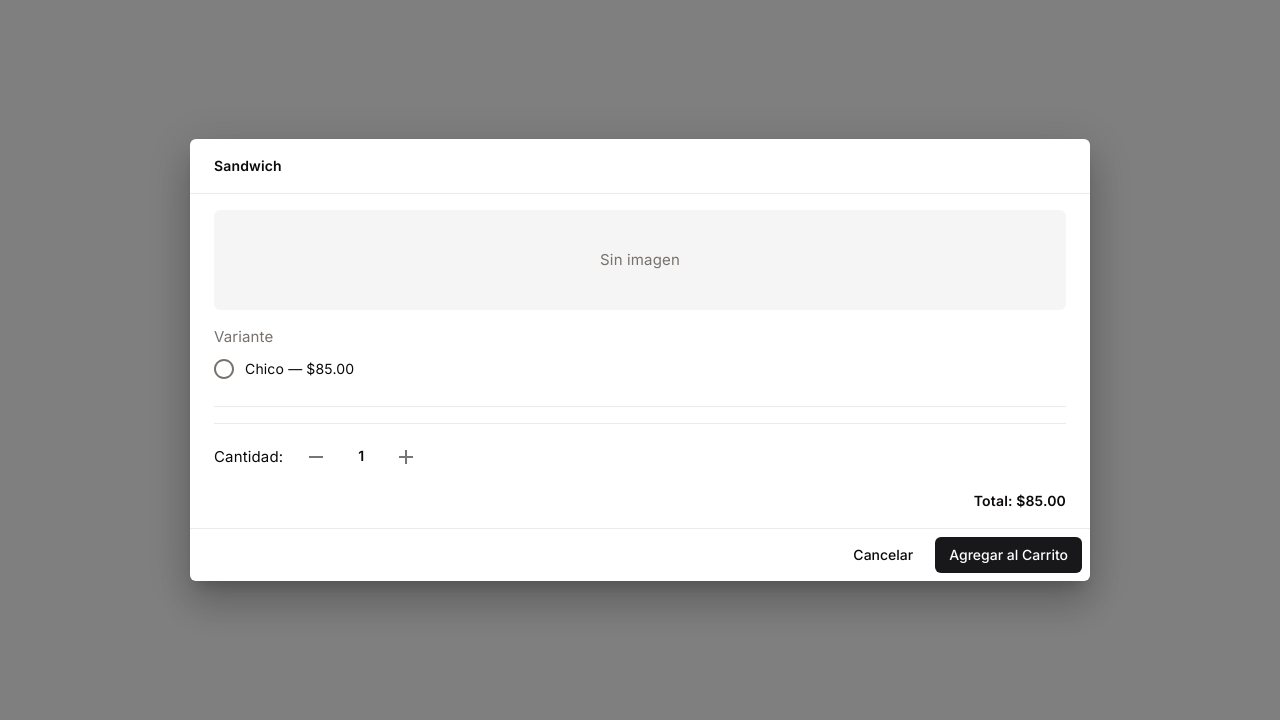
Scenario: ProductDetailModal › shows validation error when VARIANT product but no variant selected
Click the button "Agregar al Carrito" at (1009, 555), box [935, 537, 1082, 573]
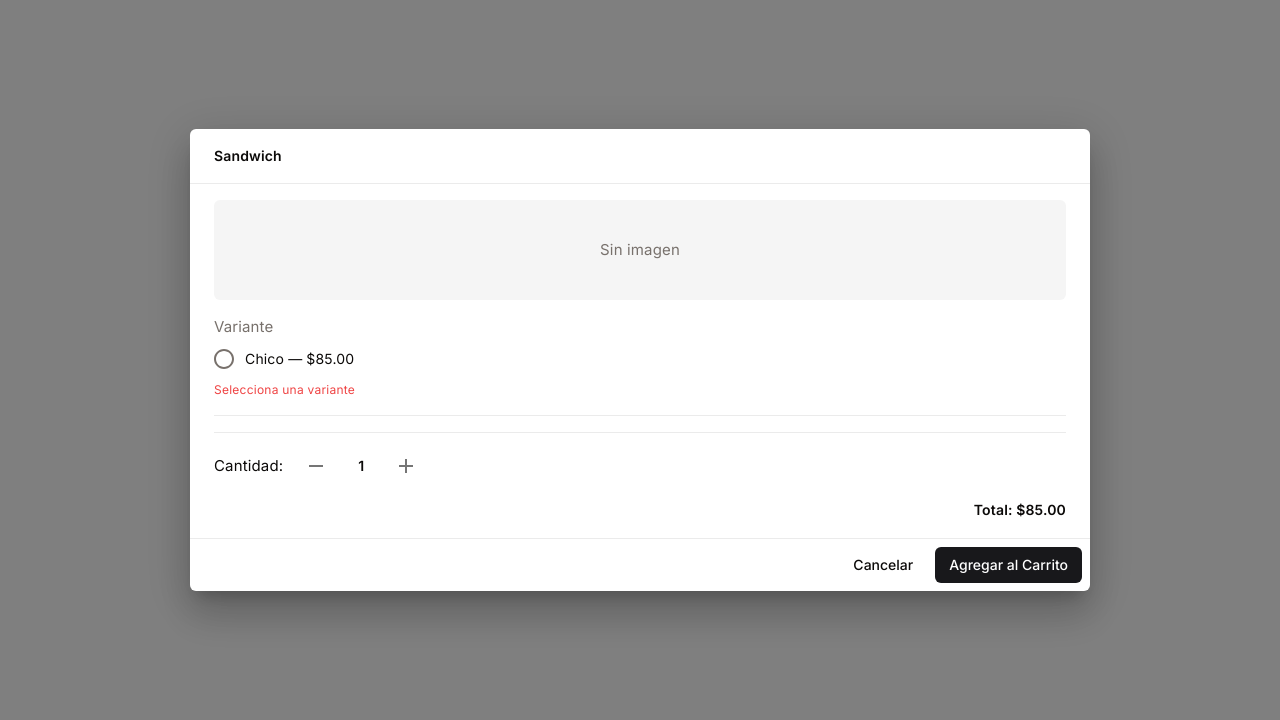
Expected: the text "Selecciona una variante" is shown, [214, 382, 355, 397]
